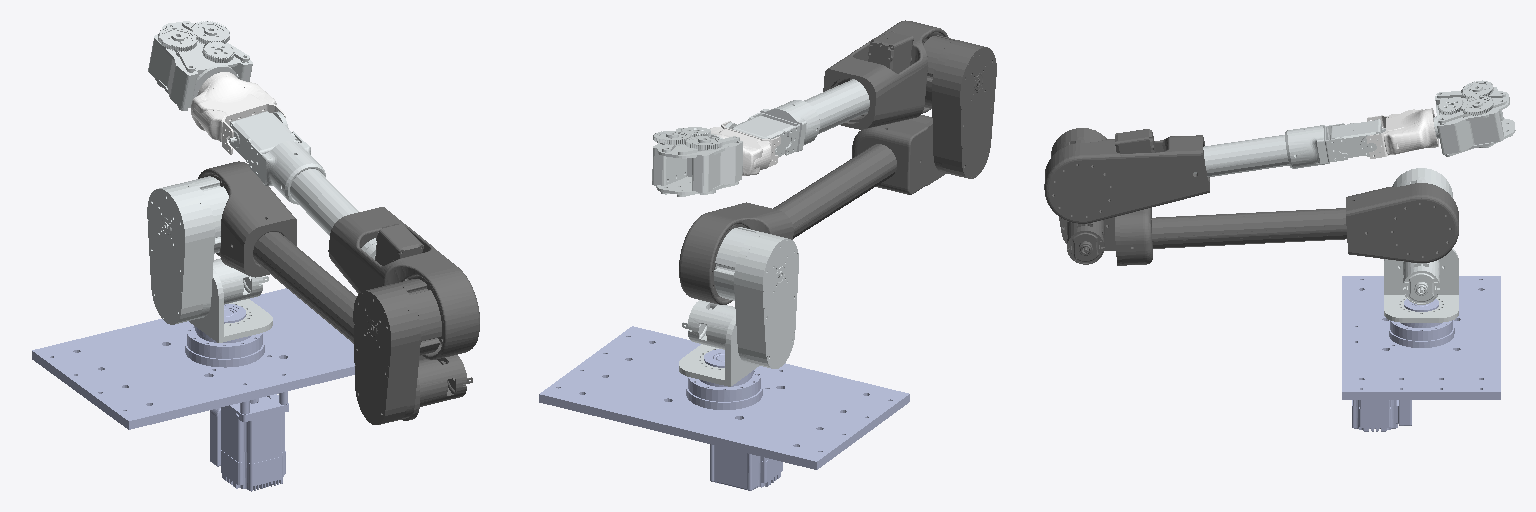
robot.urdf — dicer_arm_confv2:
<?xml version="1.0" encoding="utf-8"?>
<!-- This URDF was automatically created by SolidWorks to URDF Exporter! Originally created by Stephen Brawner (brawner@gmail.com) 
     Commit Version: 1.6.0-4-g7f85cfe  Build Version: 1.6.7995.38578
     For more information, please see http://wiki.ros.org/sw_urdf_exporter -->
<robot
  name="dicer_arm_confv2">
  <link
    name="base_link">
    <inertial>
      <origin
        xyz="-1.8478E-08 0.045209 0.011654"
        rpy="0 0 0" />
      <mass
        value="1.2192" />
      <inertia
        ixx="0.0026863"
        ixy="2.2855E-10"
        ixz="1.885E-10"
        iyy="0.0073576"
        iyz="-2.3798E-05"
        izz="0.0098799" />
    </inertial>
    <visual>
      <origin
        xyz="0 0 0"
        rpy="0 0 0" />
      <geometry>
        <mesh
          filename="package://dicerox_arm_confv2/meshes/base_link.STL" />
      </geometry>
      <material
        name="">
        <color
          rgba="0.79216 0.81961 0.93333 1" />
      </material>
    </visual>
    <collision>
      <origin
        xyz="0 0 0"
        rpy="0 0 0" />
      <geometry>
        <mesh
          filename="package://dicerox_arm_confv2/meshes/base_link.STL" />
      </geometry>
    </collision>
  </link>
  <link
    name="Link1">
    <inertial>
      <origin
        xyz="2.6111E-05 0.032065 0.074256"
        rpy="0 0 0" />
      <mass
        value="0.34735" />
      <inertia
        ixx="0.0004136"
        ixy="-2.218E-08"
        ixz="4.0455E-07"
        iyy="0.0005331"
        iyz="-1.7648E-05"
        izz="0.00024227" />
    </inertial>
    <visual>
      <origin
        xyz="0 0 0"
        rpy="0 0 0" />
      <geometry>
        <mesh
          filename="package://dicerox_arm_confv2/meshes/Link1.STL" />
      </geometry>
      <material
        name="">
        <color
          rgba="0.89804 0.92157 0.92941 1" />
      </material>
    </visual>
    <collision>
      <origin
        xyz="0 0 0"
        rpy="0 0 0" />
      <geometry>
        <mesh
          filename="package://dicerox_arm_confv2/meshes/Link1.STL" />
      </geometry>
    </collision>
  </link>
  <joint
    name="Joint1"
    type="revolute">
    <origin
      xyz="0 0.05923 0.077"
      rpy="0 0 1.5708" />
    <parent
      link="base_link" />
    <child
      link="Link1" />
    <axis
      xyz="0 0 1" />
    <limit
      lower="-1.5708"
      upper="1.5708"
      effort="100"
      velocity="100" />
    <dynamics
      damping="0.1"
      friction="0.1" />
  </joint>
  <link
    name="Link2">
    <inertial>
      <origin
        xyz="0.0020051 0.21873 -0.023798"
        rpy="0 0 0" />
      <mass
        value="1.0469" />
      <inertia
        ixx="0.0019691"
        ixy="5.5809E-05"
        ixz="-5.9991E-06"
        iyy="0.00095213"
        iyz="9.9465E-05"
        izz="0.0023928" />
    </inertial>
    <visual>
      <origin
        xyz="0 0 0"
        rpy="0 0 0" />
      <geometry>
        <mesh
          filename="package://dicerox_arm_confv2/meshes/Link2.STL" />
      </geometry>
      <material
        name="">
        <color
          rgba="0.49804 0.49804 0.49804 1" />
      </material>
    </visual>
    <collision>
      <origin
        xyz="0 0 0"
        rpy="0 0 0" />
      <geometry>
        <mesh
          filename="package://dicerox_arm_confv2/meshes/Link2.STL" />
      </geometry>
    </collision>
  </link>
  <joint
    name="Joint2"
    type="revolute">
    <origin
      xyz="0 -0.017 0.1165"
      rpy="1.5708 -1.5708 0" /> 
    <parent
      link="Link1" />
    <child
      link="Link2" />
    <axis
      xyz="0 0 1" />
    <limit
      lower="-4.18879"
      upper="0.00000"
      effort="100"
      velocity="100" />
    <dynamics
      damping="0.1"
      friction="0.1" />
  </joint>
  <link
    name="Link3">
    <inertial>
      <origin
        xyz="-0.0014488 -0.060369 -0.008698"
        rpy="0 0 0" />
      <mass
        value="0.49703" />
      <inertia
        ixx="0.0015508"
        ixy="-7.1129E-05"
        ixz="-1.6748E-05"
        iyy="0.00048269"
        iyz="-0.0001533"
        izz="0.0016851" />
    </inertial>
    <visual>
      <origin
        xyz="0 0 0"
        rpy="0 0 0" />
      <geometry>
        <mesh
          filename="package://dicerox_arm_confv2/meshes/Link3.STL" />
      </geometry>
      <material
        name="">
        <color
          rgba="0.49804 0.49804 0.49804 1" />
      </material>
    </visual>
    <collision>
      <origin
        xyz="0 0 0"
        rpy="0 0 0" />
      <geometry>
        <mesh
          filename="package://dicerox_arm_confv2/meshes/Link3.STL" />
      </geometry>
    </collision>
  </link>
  <joint
    name="Joint3"
    type="revolute">
    <origin
      xyz="0.056326 0.43175 0"
      rpy="0 0 0.2" />
    <parent
      link="Link2" />
    <child
      link="Link3" />
    <axis
      xyz="0 0 1" />
    <limit
      lower="0.00000"
      upper="3.40339"
      effort="100"
      velocity="100" />
    <dynamics
      damping="0.1"
      friction="0.1" />
  </joint>
  <link
    name="Link4">
    <inertial>
      <origin
        xyz="-0.00031656 -0.0052206 0.055039"
        rpy="0 0 0" />
      <mass
        value="0.26427" />
      <inertia
        ixx="0.00028078"
        ixy="8.3196E-07"
        ixz="5.0153E-08"
        iyy="0.00029264"
        iyz="2.0275E-05"
        izz="8.1628E-05" />
    </inertial>
    <visual>
      <origin
        xyz="0 0 0"
        rpy="0 0 0" />
      <geometry>
        <mesh
          filename="package://dicerox_arm_confv2/meshes/Link4.STL" />
      </geometry>
      <material
        name="">
        <color
          rgba="0.89804 0.92157 0.92941 1" />
      </material>
    </visual>
    <collision>
      <origin
        xyz="0 0 0"
        rpy="0 0 0" />
      <geometry>
        <mesh
          filename="package://dicerox_arm_confv2/meshes/Link4.STL" />
      </geometry>
    </collision>
  </link>
  <joint
    name="Joint4"
    type="revolute">
    <origin
      xyz="-0.0083883 -0.21033 -0.016"
      rpy="1.5157 1.5708 0" />
    <parent
      link="Link3" />
    <child
      link="Link4" />
    <axis
      xyz="0 0.094774 -0.9955" />
    <limit
      lower="-1.5708"
      upper="1.5708"
      effort="100"
      velocity="100" />
    <dynamics
      damping="0.1"
      friction="0.1" />
  </joint>
  <link
    name="Link5">
    <inertial>
      <origin
        xyz="-0.00324138735582469 -0.0491171799377679 -0.0333859007032062"
        rpy="0 0 0" />
      <mass
        value="0.176232004746393" />
      <inertia
        ixx="0.000118756529816677"
        ixy="-9.61698250555991E-07"
        ixz="-4.89044635141133E-06"
        iyy="8.9648729603517E-05"
        iyz="-1.62391438317864E-06"
        izz="6.60943336243957E-05" />
    </inertial>
    <visual>
      <origin
        xyz="0 0 0"
        rpy="0 0 0" />
      <geometry>
        <mesh
          filename="package://dicerox_arm_confv2/meshes/Link5.STL" />
      </geometry>
      <material
        name="">
        <color
          rgba="1 1 1 1" />
      </material>
    </visual>
    <collision>
      <origin
        xyz="0 0 0"
        rpy="0 0 0" />
      <geometry>
        <mesh
          filename="package://dicerox_arm_confv2/meshes/Link5.STL" />
      </geometry>
    </collision>
  </link>
  <joint
    name="Joint5"
    type="revolute">
    <origin
      xyz="-0.033439 -0.013485 0.16296"
      rpy="-1.5708 -0.055057 1.5708" />
    <parent
      link="Link4" />
    <child
      link="Link5" />
    <axis
      xyz="0.060233 -0.0024022 0.99818" />
    <limit
      lower="-1.5708"
      upper="1.5708"
      effort="100"
      velocity="100" />
    <dynamics
      damping="0.1"
      friction="0.1" />
  </joint>
  <link
    name="Link6">
    <inertial>
      <origin
        xyz="-0.003664 0.00074589 -0.041672"
        rpy="0 0 0" />
      <mass
        value="0.24097" />
      <inertia
        ixx="0.00011433"
        ixy="-1.5042E-07"
        ixz="1.3892E-06"
        iyy="0.00011134"
        iyz="-3.0338E-06"
        izz="5.1016E-05" />
    </inertial>
    <visual>
      <origin
        xyz="0 0 0"
        rpy="0 0 0" />
      <geometry>
        <mesh
          filename="package://dicerox_arm_confv2/meshes/Link6.STL" />
      </geometry>
      <material
        name="">
        <color
          rgba="0.89804 0.92157 0.92941 1" />
      </material>
    </visual>
    <collision>
      <origin
        xyz="0 0 0"
        rpy="0 0 0" />
      <geometry>
        <mesh
          filename="package://dicerox_arm_confv2/meshes/Link6.STL" />
      </geometry>
    </collision>
  </link>
  <joint
    name="Joint6"
    type="revolute">
    <origin
      xyz="-0.0038909 -0.081813 -0.032635"
      rpy="1.5708 0 3.1416" />
    <parent
      link="Link5" />
    <child
      link="Link6" />
    <axis
      xyz="-0.023518 0.00098673 0.99972" />
    <limit
      lower="-1.5708"
      upper="1.5708"
      effort="100"
      velocity="100" />
    <dynamics
      damping="0.1"
      friction="0.1" />
  </joint>
</robot>

--- Render facts (derived) ---
3 views of the same robot in one strip: view 1: azimuth 30°, elevation 25°; view 2: azimuth 150°, elevation 25°; view 3: azimuth 270°, elevation 25° (orthographic).
Model dicer_arm_confv2 with 7 links and 6 joints (6 revolute), rooted at base_link, posed every joint at zero.
Links seen in each view (by area): view 1: base_link, Link2, Link1, Link3, Link4, Link6, Link5; view 2: base_link, Link2, Link1, Link3, Link6, Link4, Link5; view 3: Link2, base_link, Link3, Link4, Link1, Link6, Link5.
Link boxes in pixels (bbox=[...]): base_link: bbox=[32, 288, 354, 491]; Link2: bbox=[198, 161, 472, 424]; Link1: bbox=[147, 176, 272, 342]; Link3: bbox=[328, 207, 479, 359]; Link4: bbox=[228, 111, 376, 259]; Link6: bbox=[148, 21, 252, 110]; Link5: bbox=[191, 72, 285, 154]; base_link: bbox=[539, 326, 909, 490]; Link2: bbox=[679, 35, 996, 304]; Link1: bbox=[679, 227, 798, 386]; Link3: bbox=[823, 20, 948, 129]; Link6: bbox=[652, 127, 742, 196]; Link4: bbox=[725, 79, 869, 156]; Link5: bbox=[710, 121, 780, 175]; Link2: bbox=[1051, 128, 1458, 265]; base_link: bbox=[1342, 276, 1500, 431]; Link3: bbox=[1044, 129, 1209, 223]; Link4: bbox=[1194, 119, 1385, 176]; Link1: bbox=[1384, 168, 1458, 322]; Link6: bbox=[1433, 80, 1515, 156]; Link5: bbox=[1366, 108, 1438, 158].
Size in the robot's own frame: 0.35 by 0.5993 by 0.4646 metres.
Meshes: 7 distinct files referenced, 7 mesh visuals loaded (7 binary STL).
